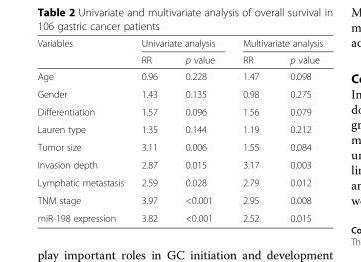table: (36, 37, 322, 223)
table column: (36, 37, 131, 223), (170, 37, 228, 223), (273, 37, 322, 223), (228, 37, 273, 223), (131, 37, 170, 223)
table column header: (36, 37, 322, 67)
table row: (36, 84, 322, 102), (36, 102, 322, 120), (36, 137, 322, 155), (36, 155, 322, 173), (36, 190, 322, 208), (36, 50, 322, 67), (36, 67, 322, 84), (36, 120, 322, 137), (36, 173, 322, 190), (36, 208, 322, 223), (36, 37, 322, 50)
table spanning cell: (36, 37, 131, 67), (131, 37, 228, 50), (228, 37, 322, 50)
